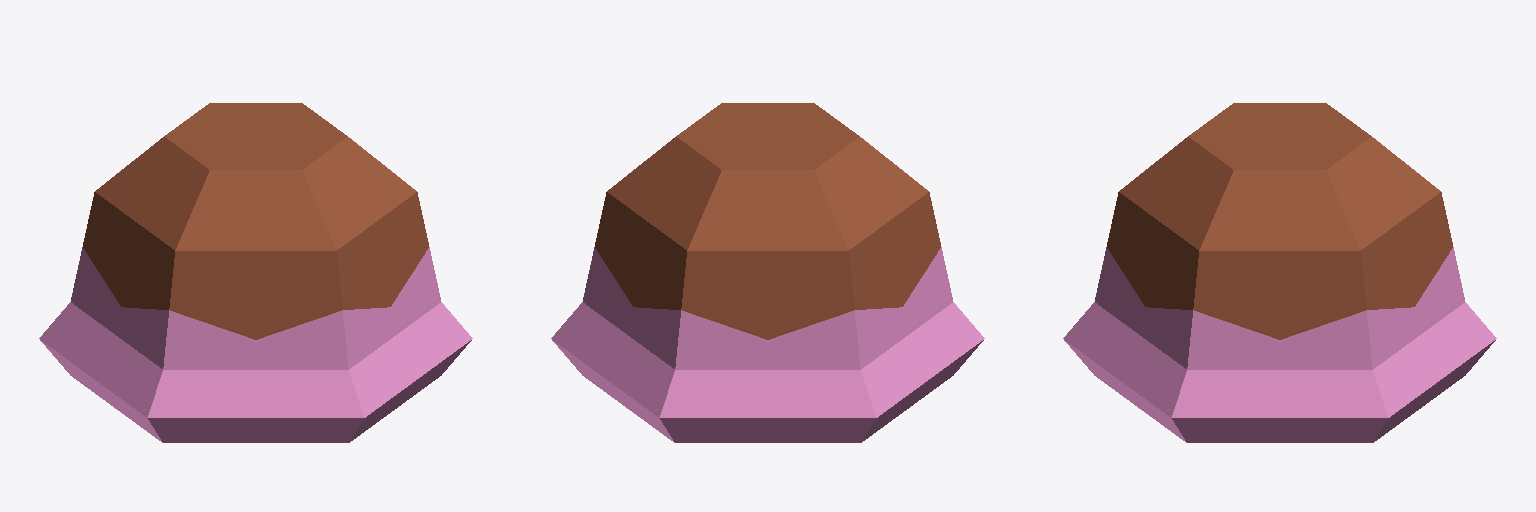
File: iceCreamScoop.obj
3 views of the same model, side by side, from view 1: azimuth 30°, elevation 25°; view 2: azimuth 150°, elevation 25°; view 3: azimuth 270°, elevation 25° (orthographic).
Visible parts, largest first — view 1: iceCreamScoop; view 2: iceCreamScoop; view 3: iceCreamScoop.
Part boxes in pixels (left/top/right/bottom): iceCreamScoop: left=39, top=103, right=472, bottom=442; iceCreamScoop: left=551, top=103, right=984, bottom=442; iceCreamScoop: left=1063, top=103, right=1496, bottom=442.
Size of the model in its own units: 0.2352 by 0.165 by 0.2716.